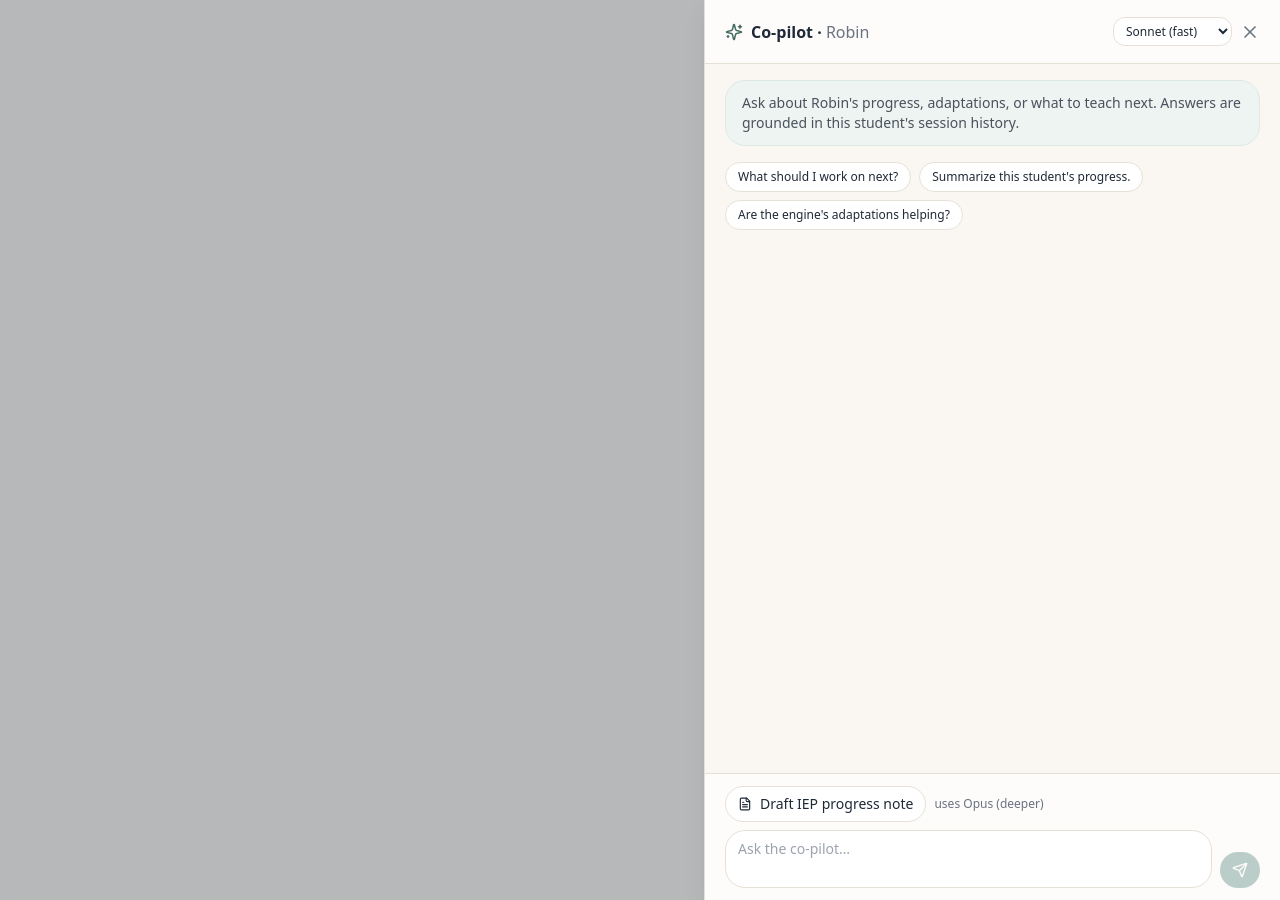
Test: Copilot drawer › renders a validated IEP draft from the draft action
The width and height of the screenshot is (1280, 900).
Click the button "Draft IEP progress note" at (826, 804), box [725,786,926,822]
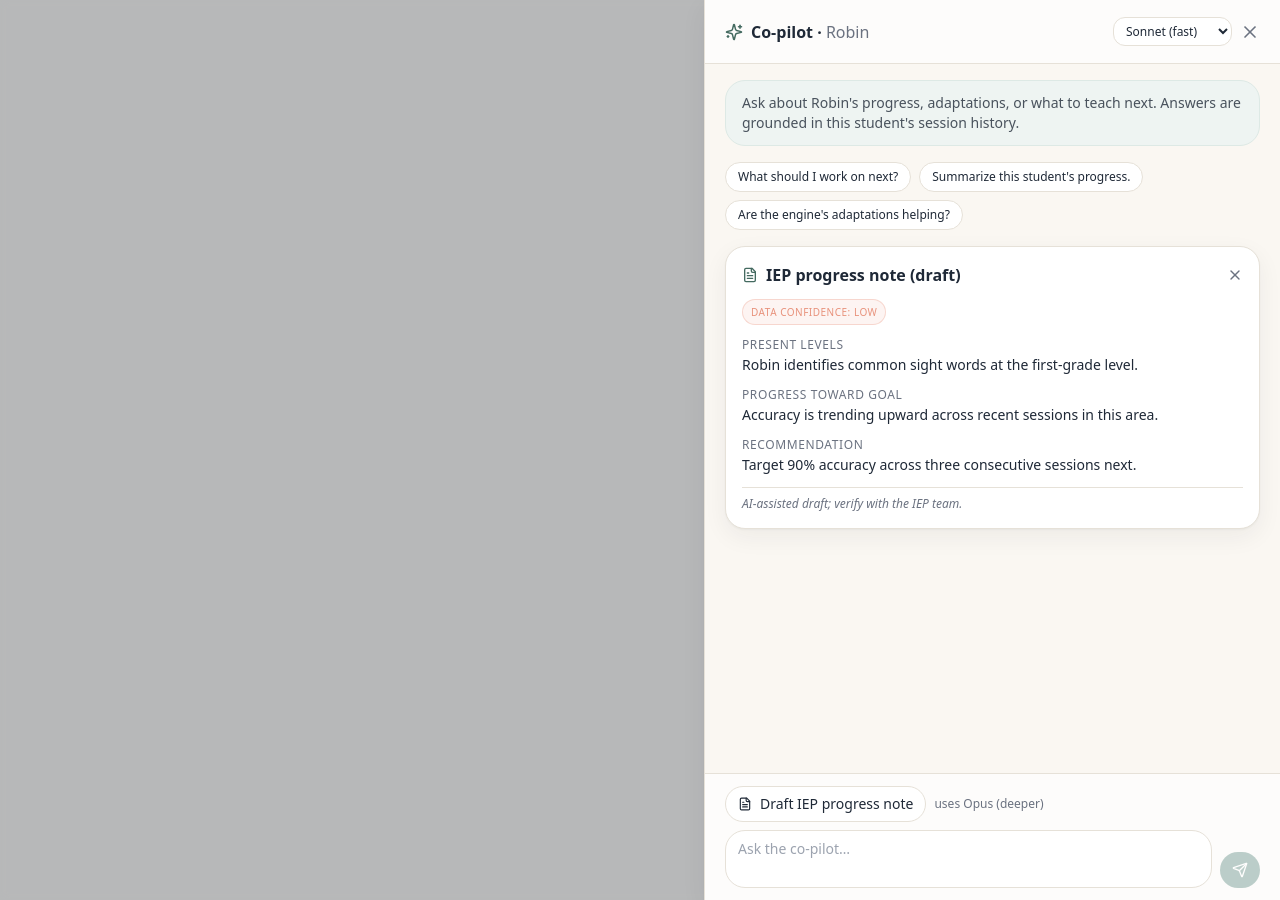
Expected: the text "Present levels" is shown, [742,336,844,353]
Expected: the text "identifies common sight words" is shown, [742,355,1138,374]
Expected: the text "data confidence: low" is shown, [742,299,886,325]
